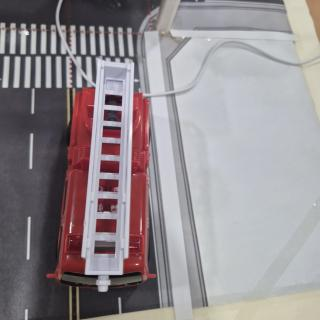Fire_truck: (47, 59, 155, 291)
